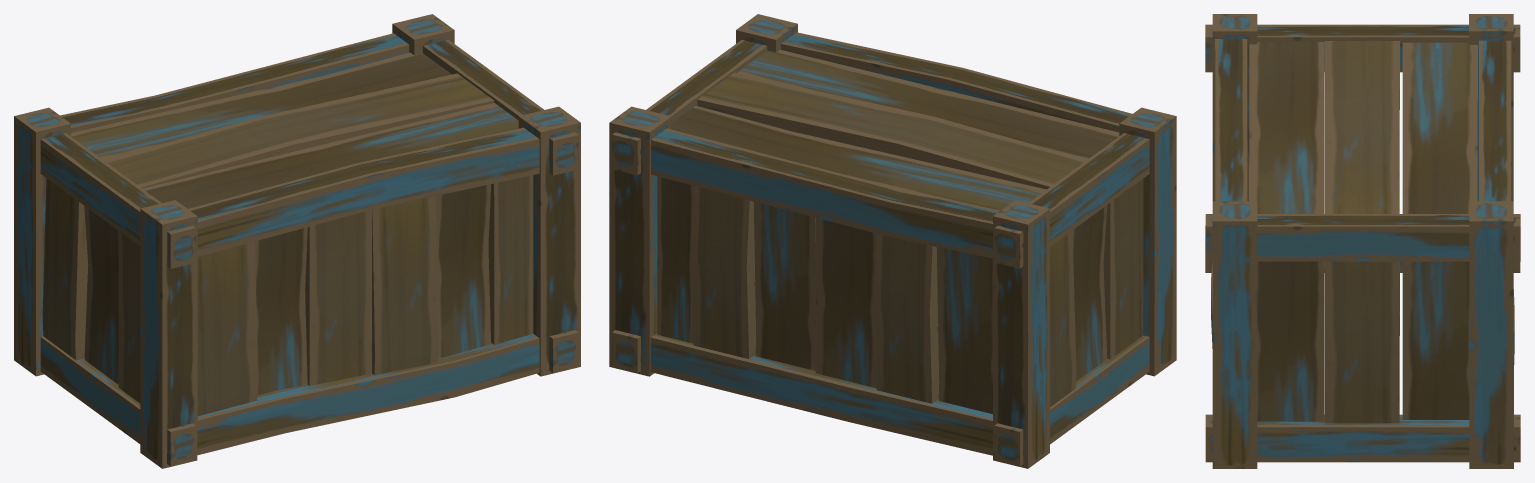
The model's file is P_WoodCrate_B.FBX.
3 views of the same model, side by side, from view 1: azimuth 30°, elevation 25°; view 2: azimuth 150°, elevation 25°; view 3: azimuth 270°, elevation 25° (orthographic).
Parts seen in each view (by area): view 1: P_WoodCrate_B; view 2: P_WoodCrate_B; view 3: P_WoodCrate_B.
Boxes of the visible parts, bbox=[...] form: P_WoodCrate_B: bbox=[14, 14, 580, 468]; P_WoodCrate_B: bbox=[609, 14, 1176, 468]; P_WoodCrate_B: bbox=[1205, 14, 1520, 468].
Bounding box in the file's own units: 128 × 71.39 × 81.95.
1 material, 1 textured.
